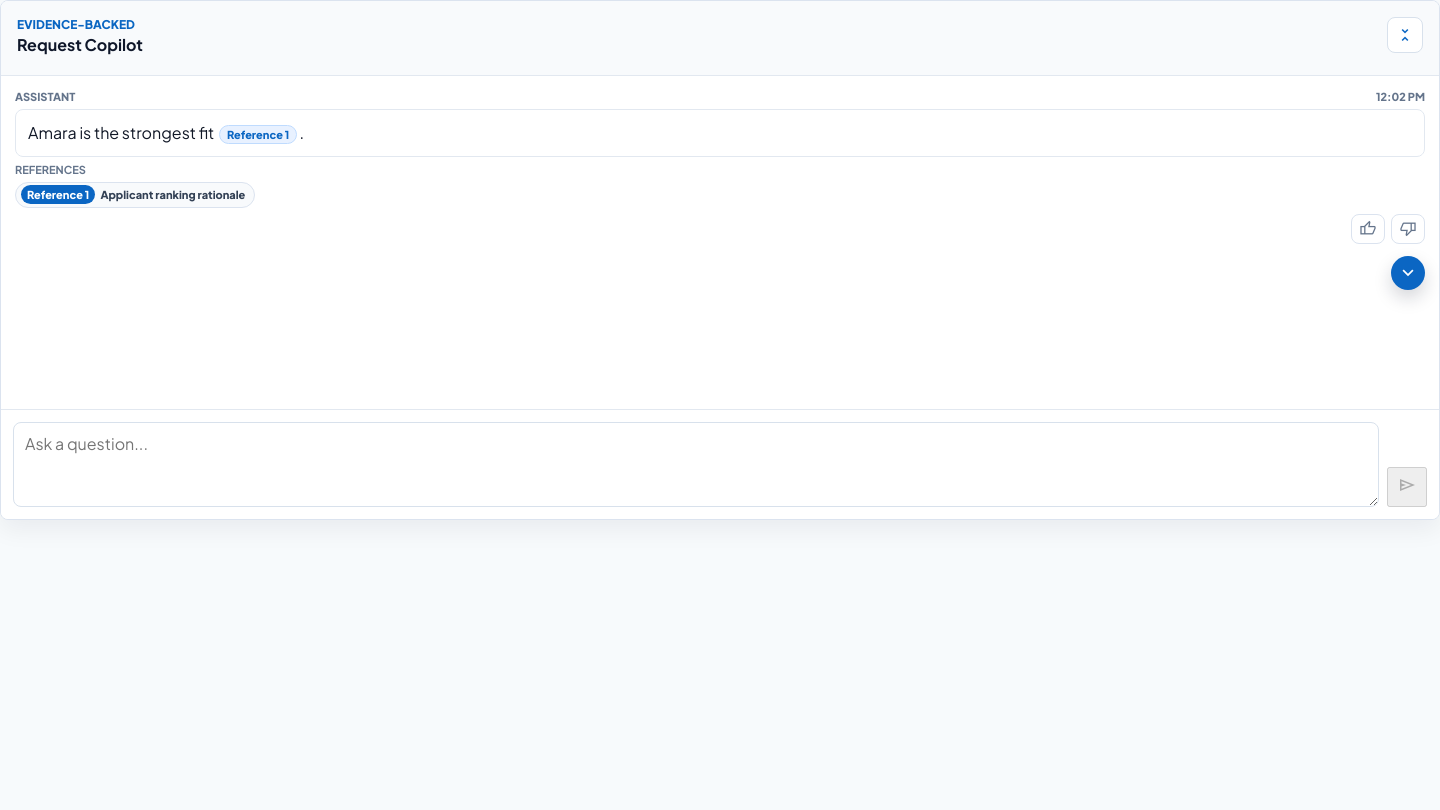
Test: RagAssistantPanelComponent › shows a structured evidence preview for citation chips
Hover over the element with class "rag-citation-chip-wrap" at x=135, y=195, box [15,182,255,208]
expect the text "Evidence preview" is not shown: met
Click the button with class "rag-citation-chip" at x=135, y=195, box [15,182,255,208]
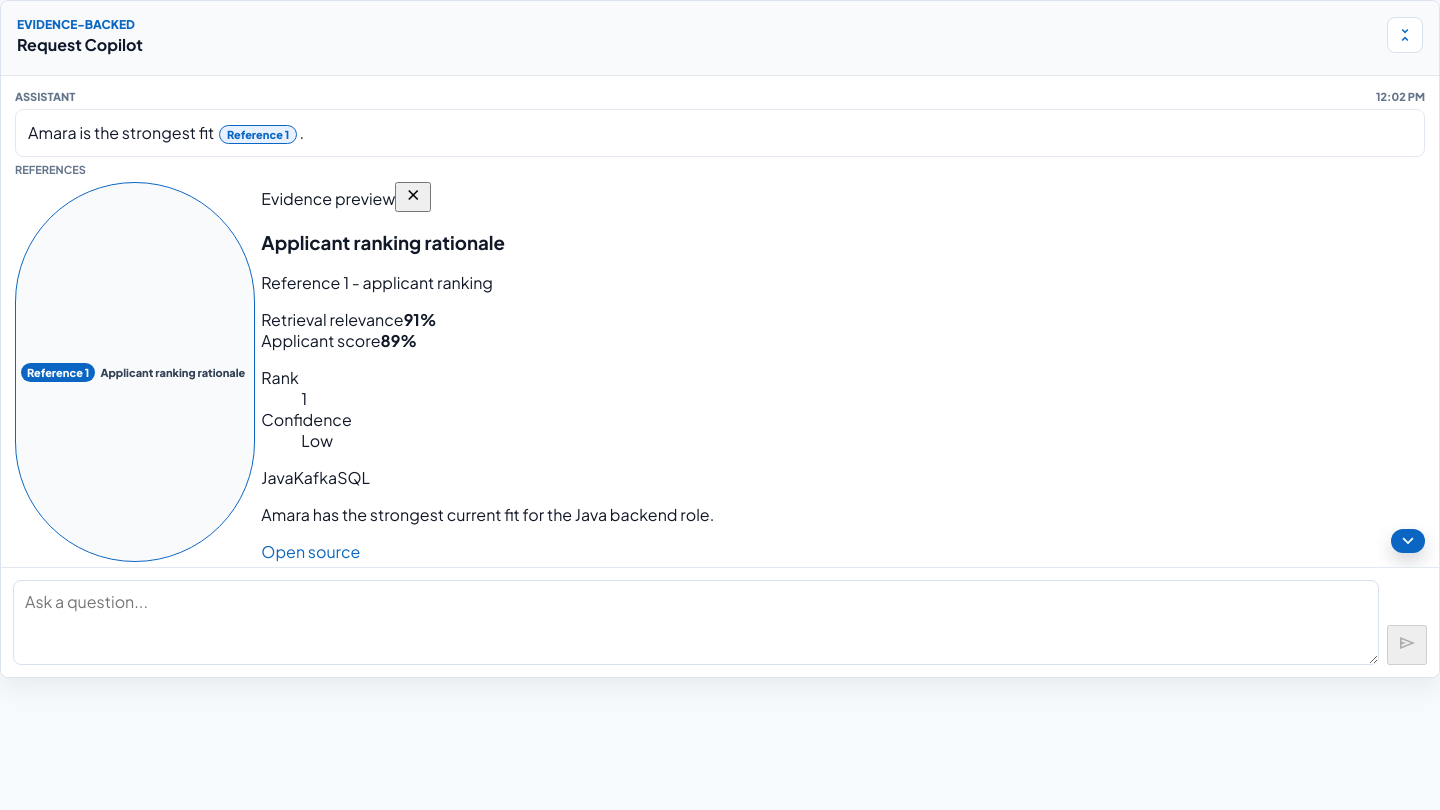
expect the text "Evidence preview" is shown: met, box [261,188,395,209]
expect the text "Retrieval relevance" is shown: met, box [261,309,404,330]
expect the text "91%" is shown: met, box [404,309,436,330]
